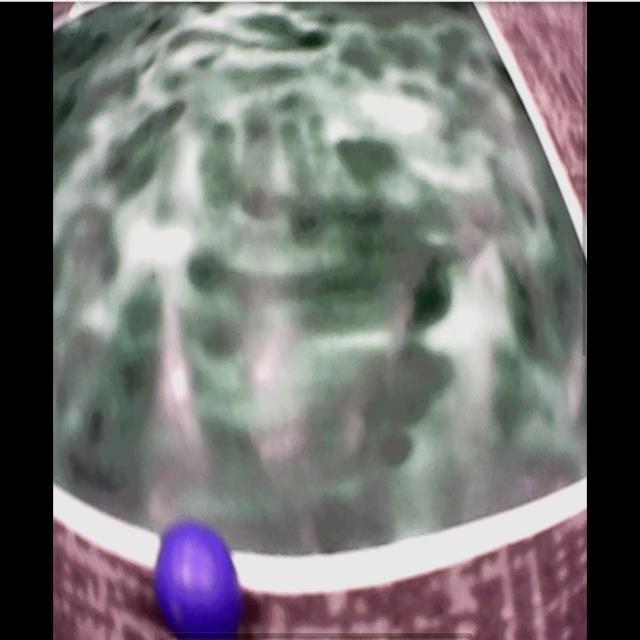ball: (155, 522, 241, 638)
